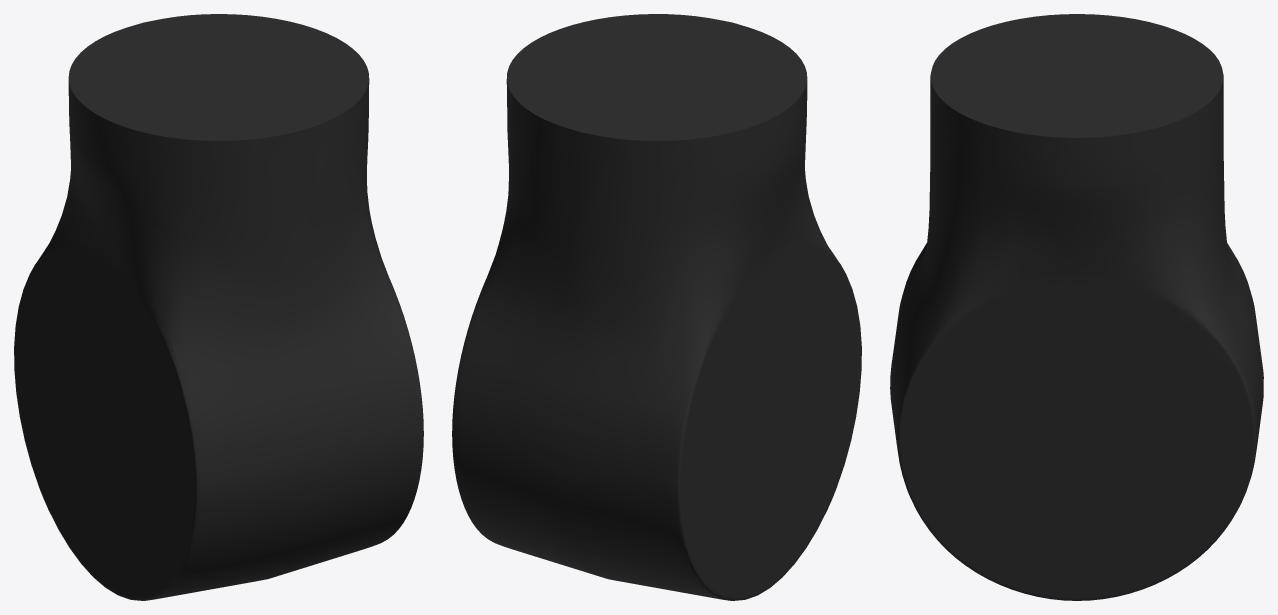
Rendered from shoulder_pitch_r_j1_link.glb.
3 renders of one model, left to right at view 1: azimuth 30°, elevation 25°; view 2: azimuth 150°, elevation 25°; view 3: azimuth 270°, elevation 25°, orthographic. The views are drawn at different scales.
Visible parts, largest first — view 1: Mesh_0.014; view 2: Mesh_0.014; view 3: Mesh_0.014.
Part boxes in pixels (x1,y1,x2,y2): Mesh_0.014: [14, 14, 423, 600]; Mesh_0.014: [452, 14, 861, 600]; Mesh_0.014: [890, 14, 1263, 600].
Bounding box in the file's own units: 0.08 × 0.144 × 0.1019.
Materials: 1 (1 with a texture image).
